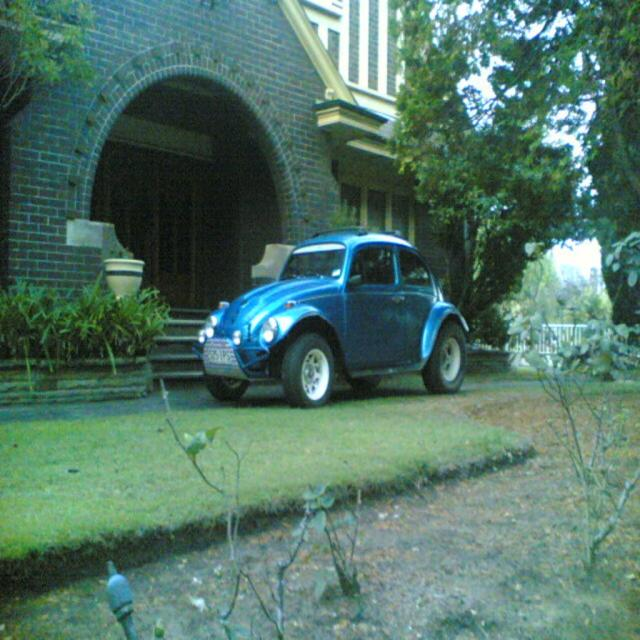car: (192, 222, 475, 411)
